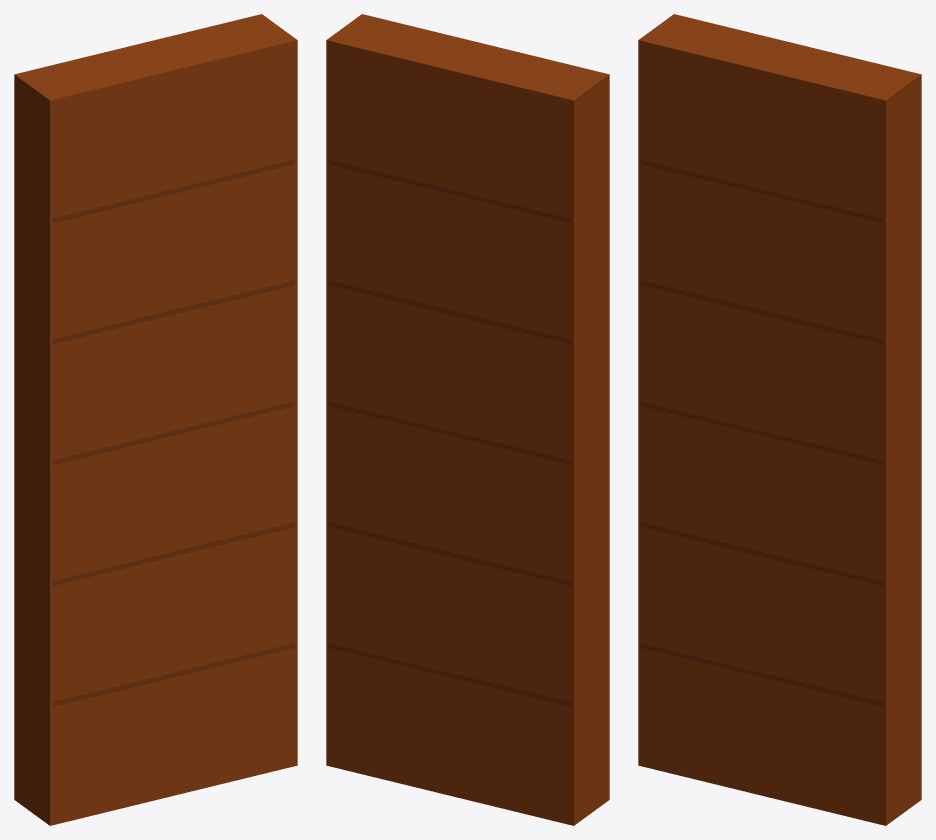
File: bookshelf.glb
The picture shows the model from 3 angles, left to right: view 1: azimuth 30°, elevation 25°; view 2: azimuth 150°, elevation 25°; view 3: azimuth 330°, elevation 25°; orthographic projection.
Bounding box in the file's own units: 1 × 2.8 × 0.252.
